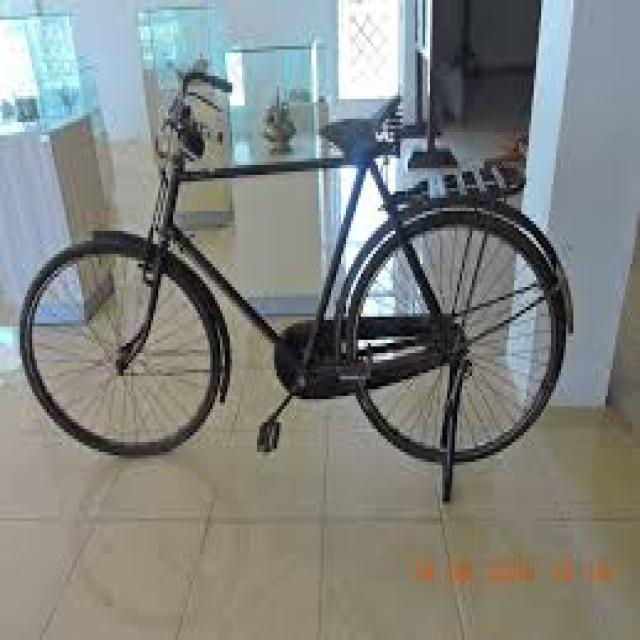bicycle: (23, 70, 569, 512)
